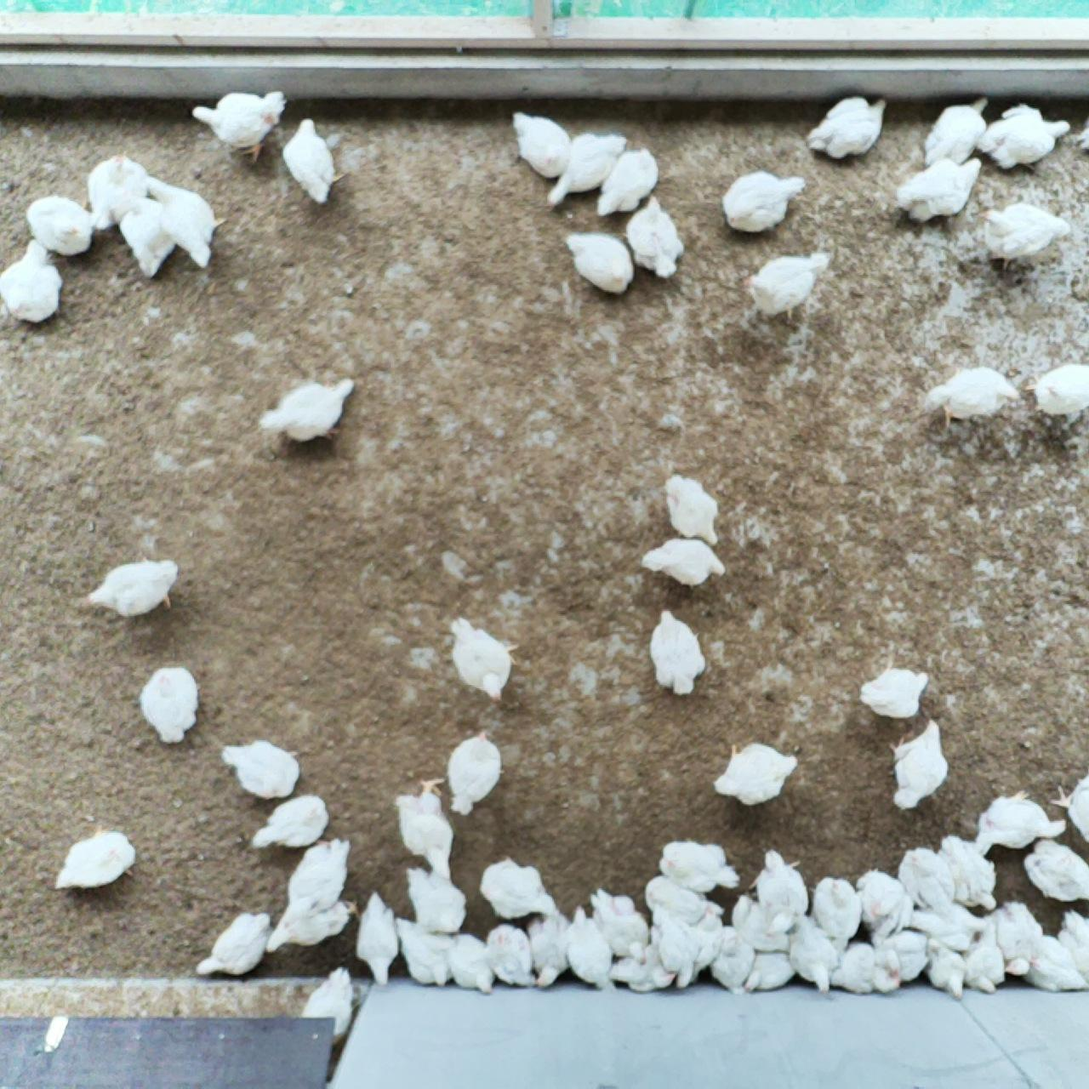chicken: (145, 169, 228, 271), (188, 86, 288, 163), (259, 373, 356, 448), (976, 198, 1074, 272), (544, 129, 629, 212), (975, 101, 1074, 172), (395, 775, 459, 881), (974, 788, 1072, 857), (447, 613, 521, 704), (895, 154, 985, 228), (921, 361, 1018, 428), (51, 824, 138, 897), (743, 248, 831, 319), (711, 737, 800, 807), (805, 90, 891, 162), (86, 554, 181, 619), (281, 114, 346, 207), (888, 718, 952, 812), (192, 911, 276, 982), (721, 169, 810, 235), (443, 726, 509, 815), (82, 151, 151, 235), (622, 191, 686, 281), (0, 236, 64, 325), (286, 836, 357, 915), (649, 609, 711, 699), (938, 832, 1006, 914), (657, 832, 744, 895), (115, 195, 178, 282), (138, 663, 202, 748), (479, 854, 560, 921), (247, 793, 333, 856), (266, 899, 364, 954), (219, 736, 302, 800), (403, 860, 472, 936), (922, 96, 994, 168), (349, 888, 402, 985), (640, 532, 727, 589), (596, 144, 661, 218), (663, 468, 722, 549), (1020, 835, 1089, 904), (24, 192, 95, 259), (562, 231, 636, 295), (988, 895, 1045, 978), (589, 887, 649, 964), (746, 848, 810, 919), (509, 107, 572, 178), (564, 903, 614, 991), (392, 916, 453, 986), (853, 866, 913, 936), (908, 901, 989, 952), (807, 874, 863, 947), (789, 915, 840, 995), (896, 845, 957, 911), (859, 665, 932, 720), (1024, 934, 1086, 996), (446, 931, 502, 999), (649, 906, 696, 987), (524, 909, 571, 988), (1025, 359, 1089, 417), (484, 920, 538, 988), (732, 892, 792, 951), (708, 924, 757, 991), (964, 921, 1008, 994), (611, 944, 675, 994), (645, 873, 710, 921), (877, 928, 929, 987), (1053, 767, 1089, 846), (829, 940, 881, 993), (686, 905, 723, 978), (926, 946, 968, 1004), (1058, 906, 1089, 983), (743, 950, 794, 995)
